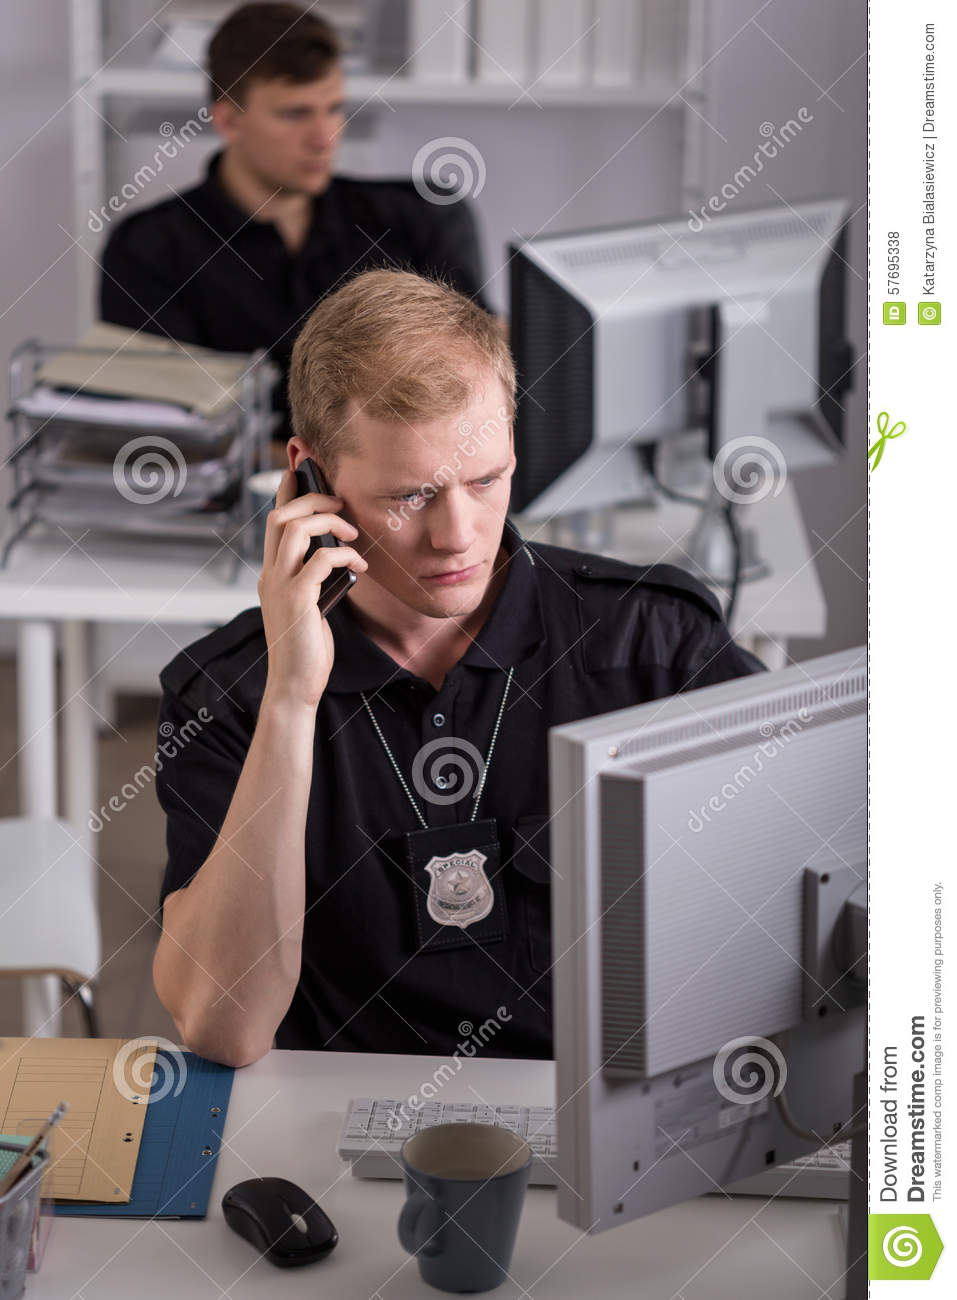phone: (283, 461, 359, 618)
talk: (256, 424, 504, 715)
